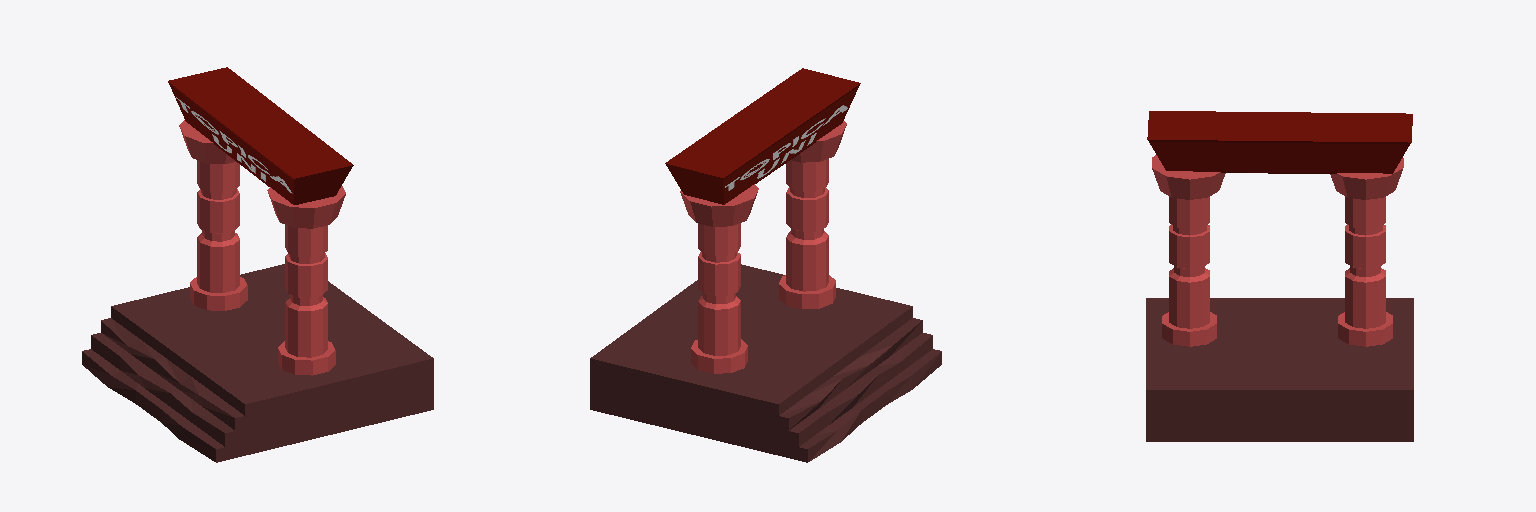
3 renders of one model, left to right at view 1: azimuth 30°, elevation 25°; view 2: azimuth 150°, elevation 25°; view 3: azimuth 270°, elevation 25°, orthographic.
Parts seen in each view (by area): view 1: pCube1, pCube2, pCylinder2, pCylinder1; view 2: pCube1, pCube2, pCylinder1, pCylinder2; view 3: pCube1, pCube2, pCylinder2, pCylinder1.
Part boxes in pixels (bbox=[...]): pCube1: bbox=[82, 264, 433, 462]; pCube2: bbox=[168, 67, 353, 204]; pCylinder2: bbox=[267, 186, 345, 375]; pCylinder1: bbox=[179, 120, 247, 310]; pCube1: bbox=[590, 264, 941, 462]; pCube2: bbox=[665, 68, 860, 204]; pCylinder1: bbox=[680, 184, 758, 373]; pCylinder2: bbox=[779, 121, 846, 309]; pCube1: bbox=[1146, 298, 1413, 441]; pCube2: bbox=[1147, 111, 1412, 173]; pCylinder2: bbox=[1152, 155, 1225, 346]; pCylinder1: bbox=[1330, 158, 1403, 346].
Size of the model in its own units: 21.91 by 24.9 by 22.99.
Materials: 3 (1 with a texture image).